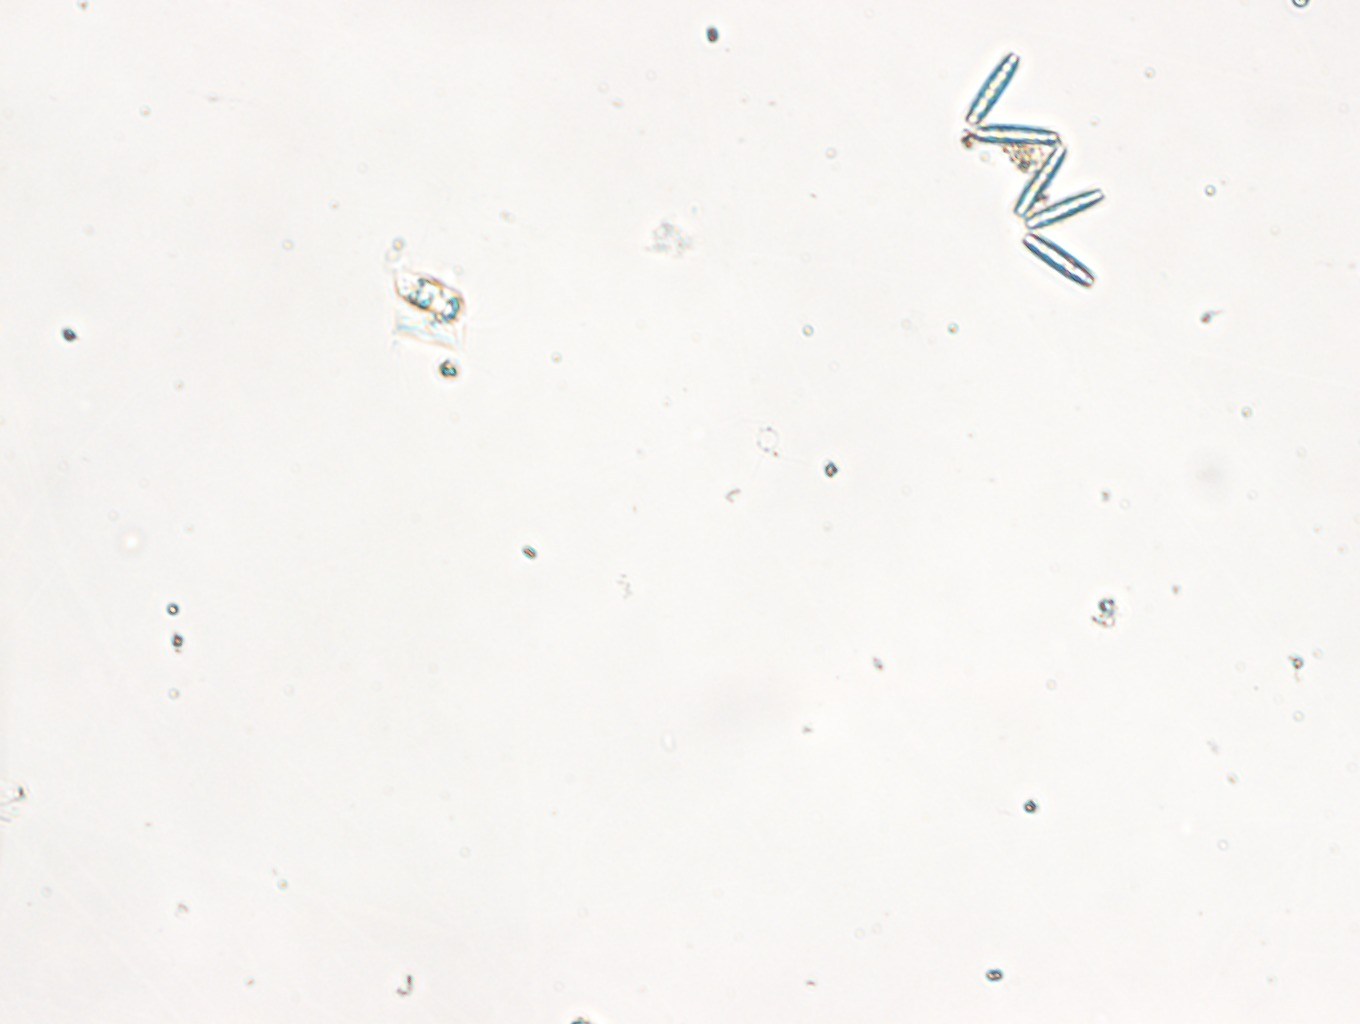thalassionema nitzschioides: (964, 52, 1103, 291)
